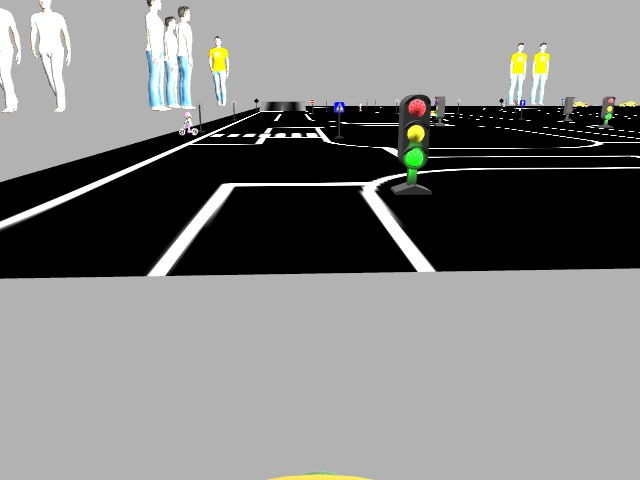Crosswalk: (334, 102, 343, 112)
Pedestrian: (178, 111, 198, 135)
TrafficLight: (398, 93, 427, 170)
